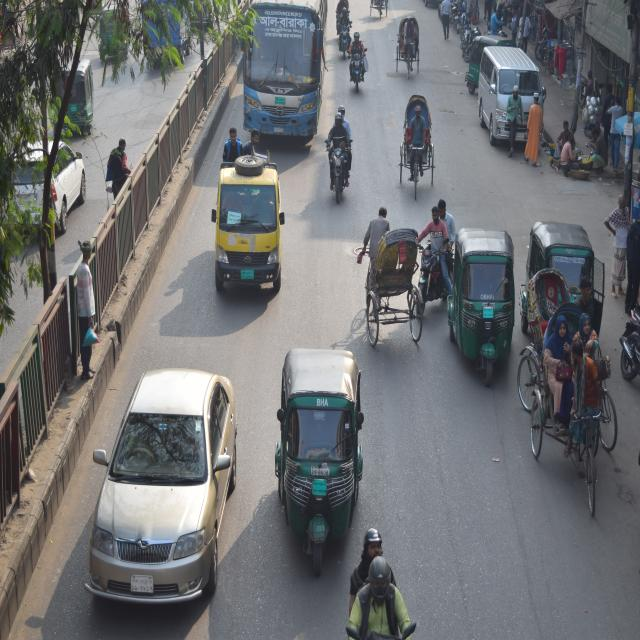bus: (240, 0, 326, 139)
car: (87, 368, 250, 607), (2, 124, 86, 222)
microbus: (480, 39, 541, 150)
motorbike: (316, 124, 352, 204), (620, 296, 640, 392), (346, 44, 366, 98), (336, 26, 356, 60)
pickup-van: (210, 157, 287, 303)
